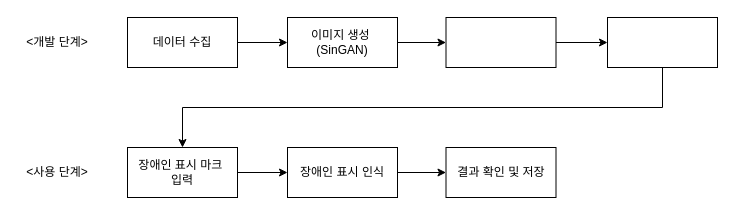
The diagram is 735 pixels wide and 215 high, and some of its shapes have lost their labels. Here are the shapes that lost their labels. From the top down, the box of each, then its label:
(445, 16, 556, 68): 객체 감지 및 라벨링
(606, 16, 718, 68): 객체 인식 모델 학습 (Yolov8)
